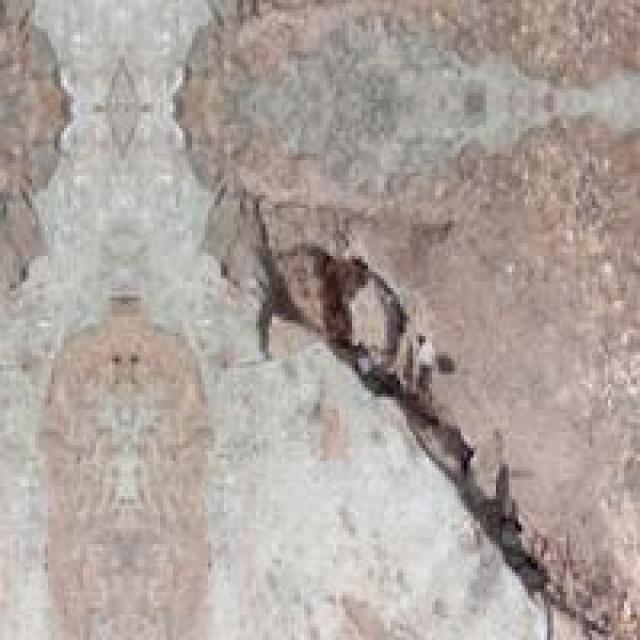SurfaceCrack: (214, 196, 640, 638)
